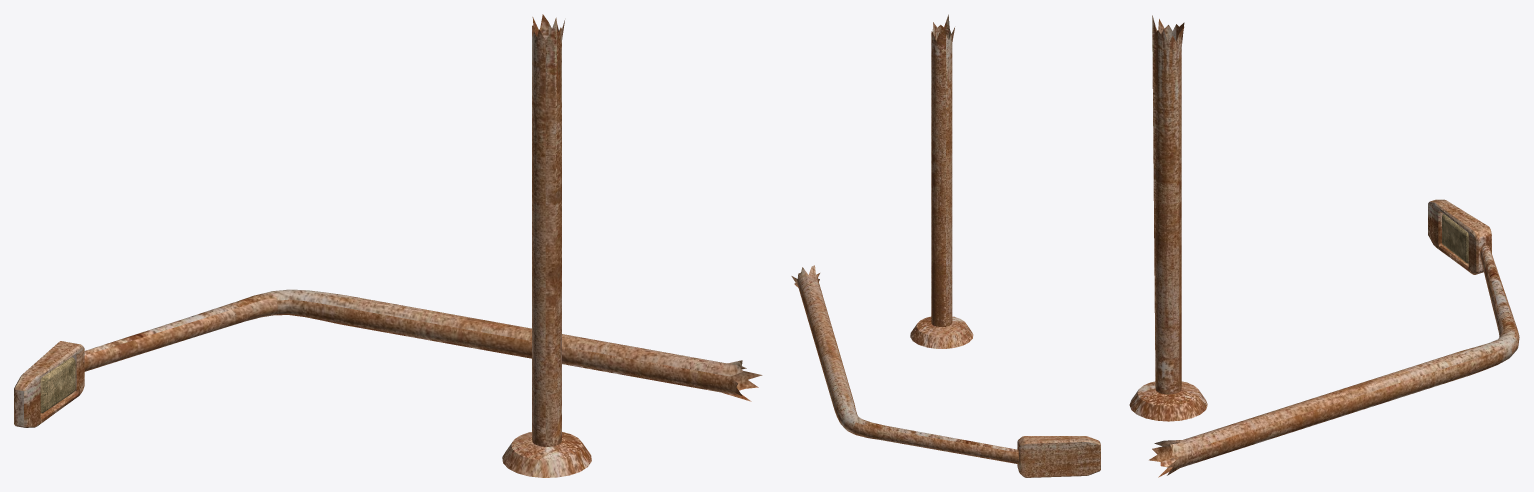
The model's file is streetlight_damaged.fbx.
3 renders of one model, left to right at view 1: azimuth 30°, elevation 25°; view 2: azimuth 150°, elevation 25°; view 3: azimuth 270°, elevation 25°, orthographic. The views are drawn at different scales.
Visible parts, largest first — view 1: lightbulb, polySurface731; view 2: lightbulb, polySurface731; view 3: lightbulb, polySurface731.
Boxes of the visible parts, x1,y1,x2,y2 form: lightbulb: [14, 289, 762, 427]; polySurface731: [502, 14, 591, 477]; lightbulb: [791, 265, 1100, 477]; polySurface731: [910, 14, 973, 348]; lightbulb: [1149, 199, 1519, 477]; polySurface731: [1129, 15, 1207, 421].
Size of the model in its own units: 4.56 by 3.3 by 2.98.
2 materials, 2 textured.
